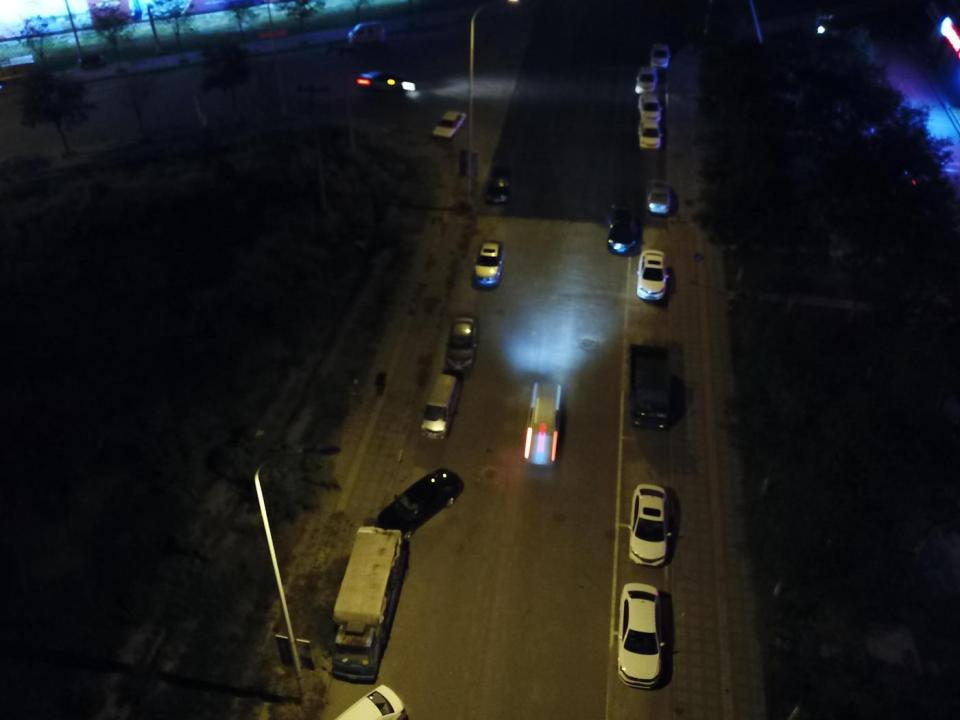car: (376, 468, 465, 540), (617, 582, 666, 690), (627, 484, 672, 567), (319, 684, 406, 720), (445, 316, 477, 370), (636, 249, 668, 301), (607, 202, 639, 254), (473, 240, 504, 287), (357, 70, 416, 92), (431, 110, 467, 141), (485, 166, 511, 206), (645, 179, 671, 216), (637, 119, 662, 150), (638, 92, 662, 122), (634, 66, 657, 95), (649, 42, 671, 68), (78, 54, 109, 69)
truck: (331, 525, 408, 684), (628, 343, 673, 431), (0, 54, 37, 81)
van: (524, 382, 561, 464), (419, 374, 459, 442), (348, 22, 386, 46)
